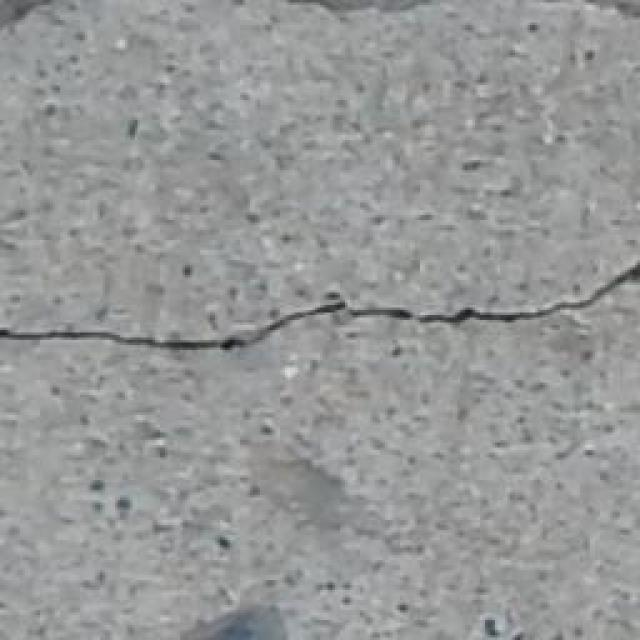concrete-crack: (3, 259, 640, 355)
